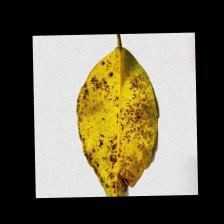canker: (81, 106, 160, 195)
